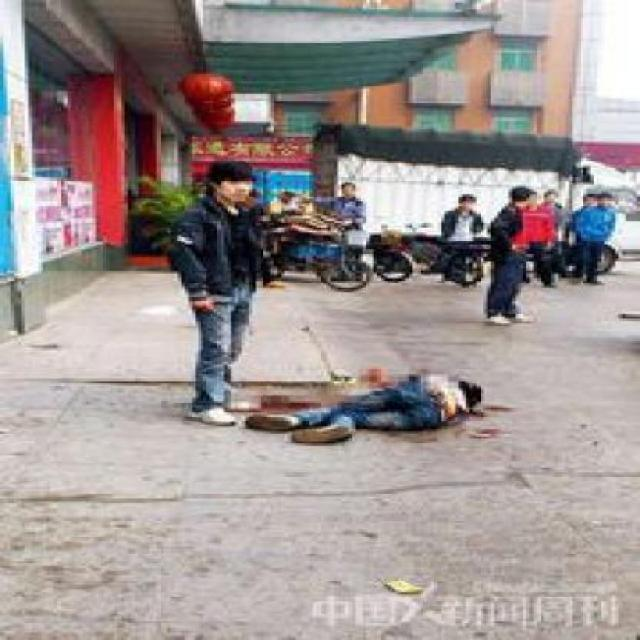fall: (228, 348, 490, 443)
